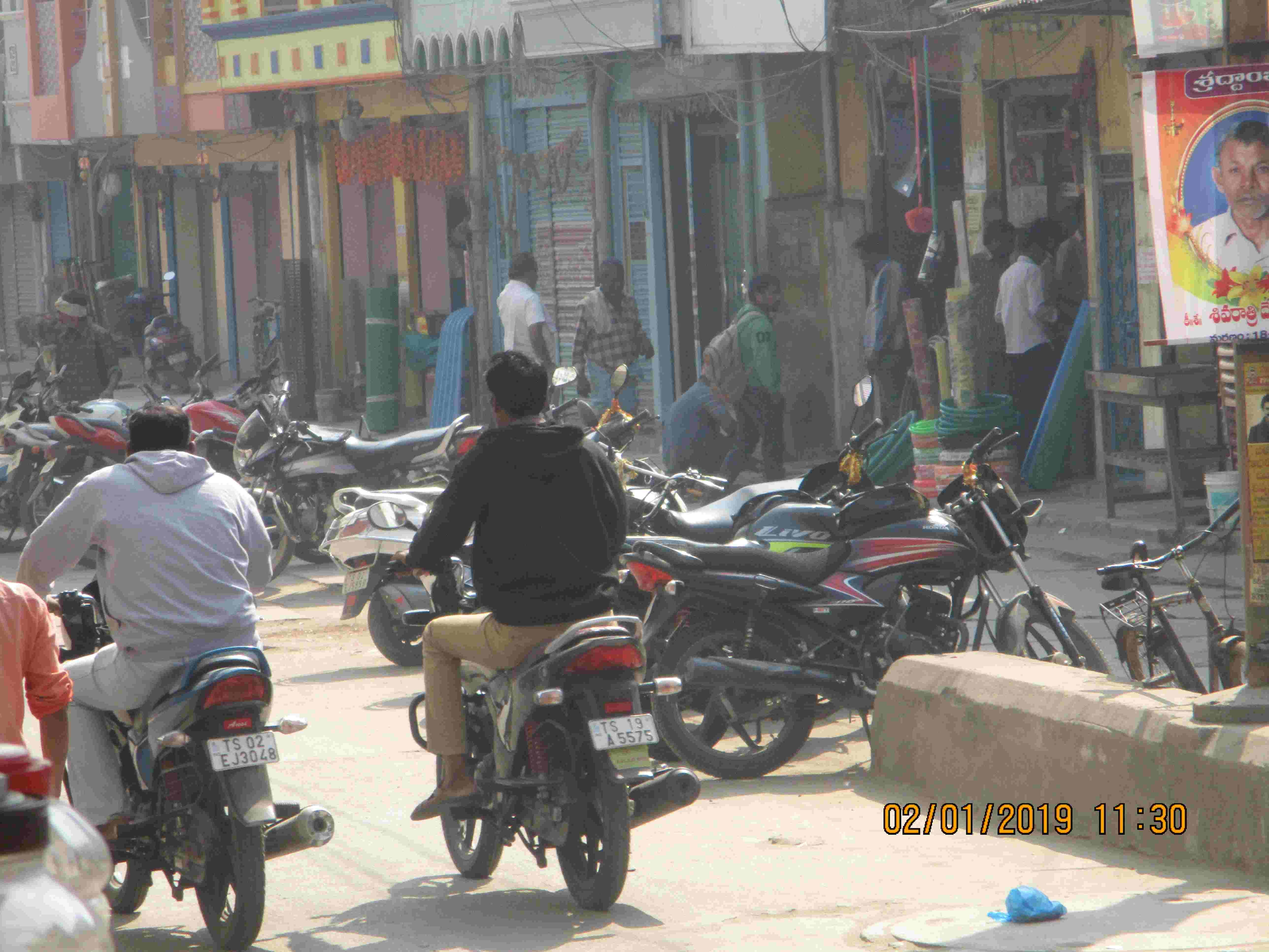plate: (199, 722, 296, 774), (583, 700, 671, 748)
